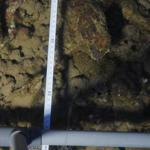dead: (63, 18, 146, 126)
